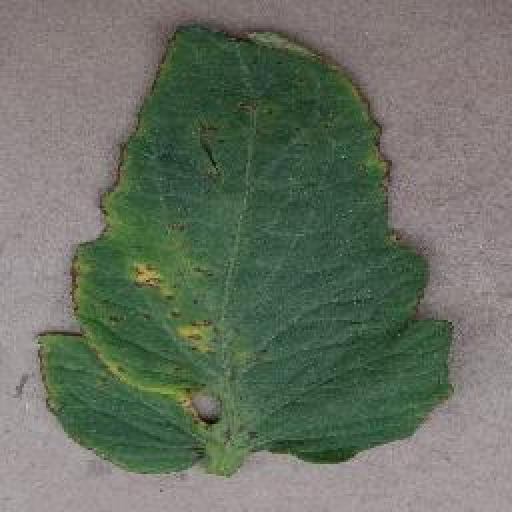Bacterial Spot: (30, 18, 458, 478)
